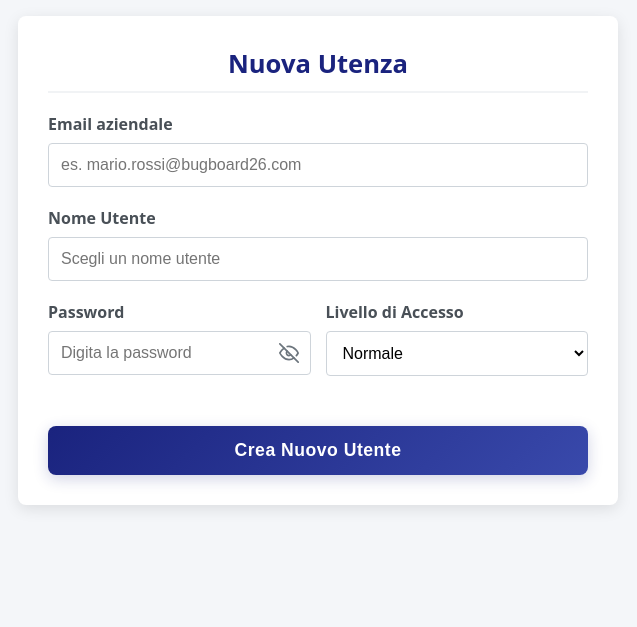
Test case: RegisterComponent › should dynamically show the password checklist when input is focused (DOM Testing)
Focus the password field labelled "Password" at (179, 353), box x1=48 y1=331 x2=310 y2=375
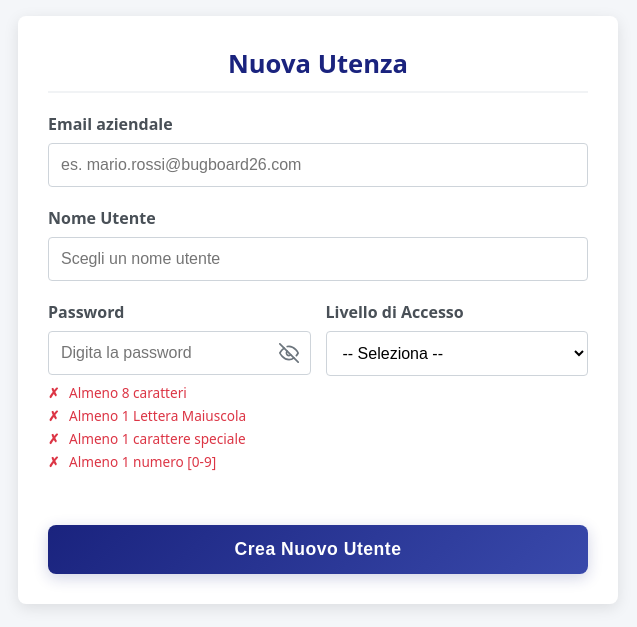
Expected: the list is shown, x1=48 y1=383 x2=246 y2=471
